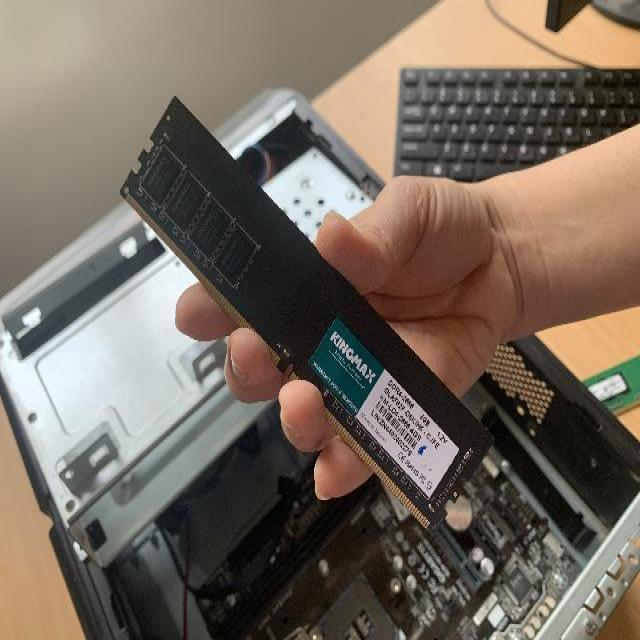RAM: (118, 96, 494, 532)
